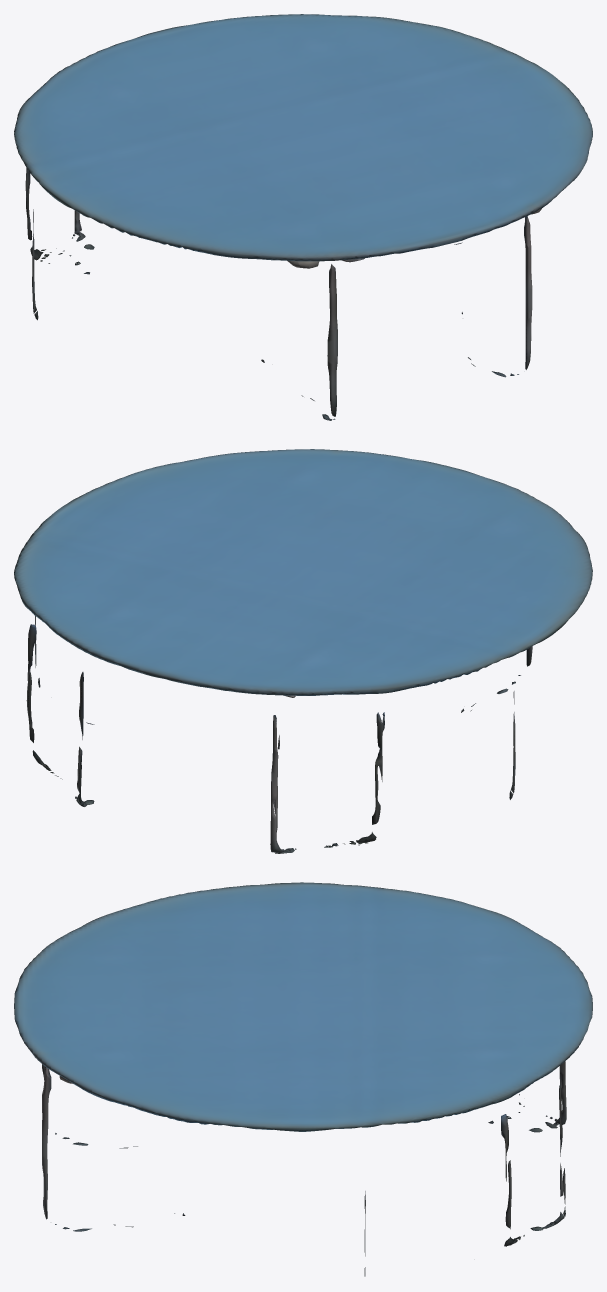
The model's file is Sleek rectangular glass coffee table with four cur.glb.
3 views of the same model, one above another, from view 1: azimuth 30°, elevation 25°; view 2: azimuth 150°, elevation 25°; view 3: azimuth 270°, elevation 25° (orthographic).
Parts seen in each view (by area): view 1: Sleek rectangular glass coffee table with four cur; view 2: Sleek rectangular glass coffee table with four cur; view 3: Sleek rectangular glass coffee table with four cur.
Boxes of the visible parts, box(x1,y1,x2,y2) form: Sleek rectangular glass coffee table with four cur: box(14, 14, 592, 420); Sleek rectangular glass coffee table with four cur: box(14, 449, 592, 853); Sleek rectangular glass coffee table with four cur: box(14, 882, 592, 1276).
Size of the model in its own units: 1.98 by 0.695 by 1.97.
